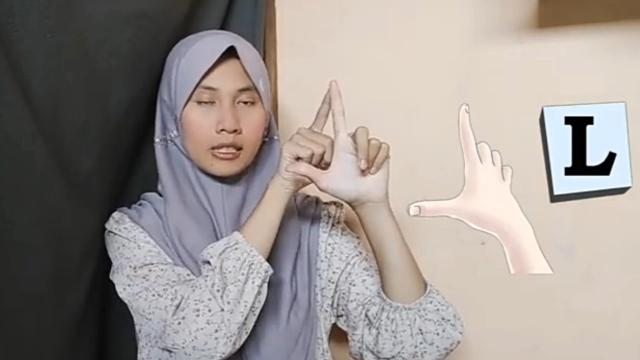L: (284, 78, 392, 202)
